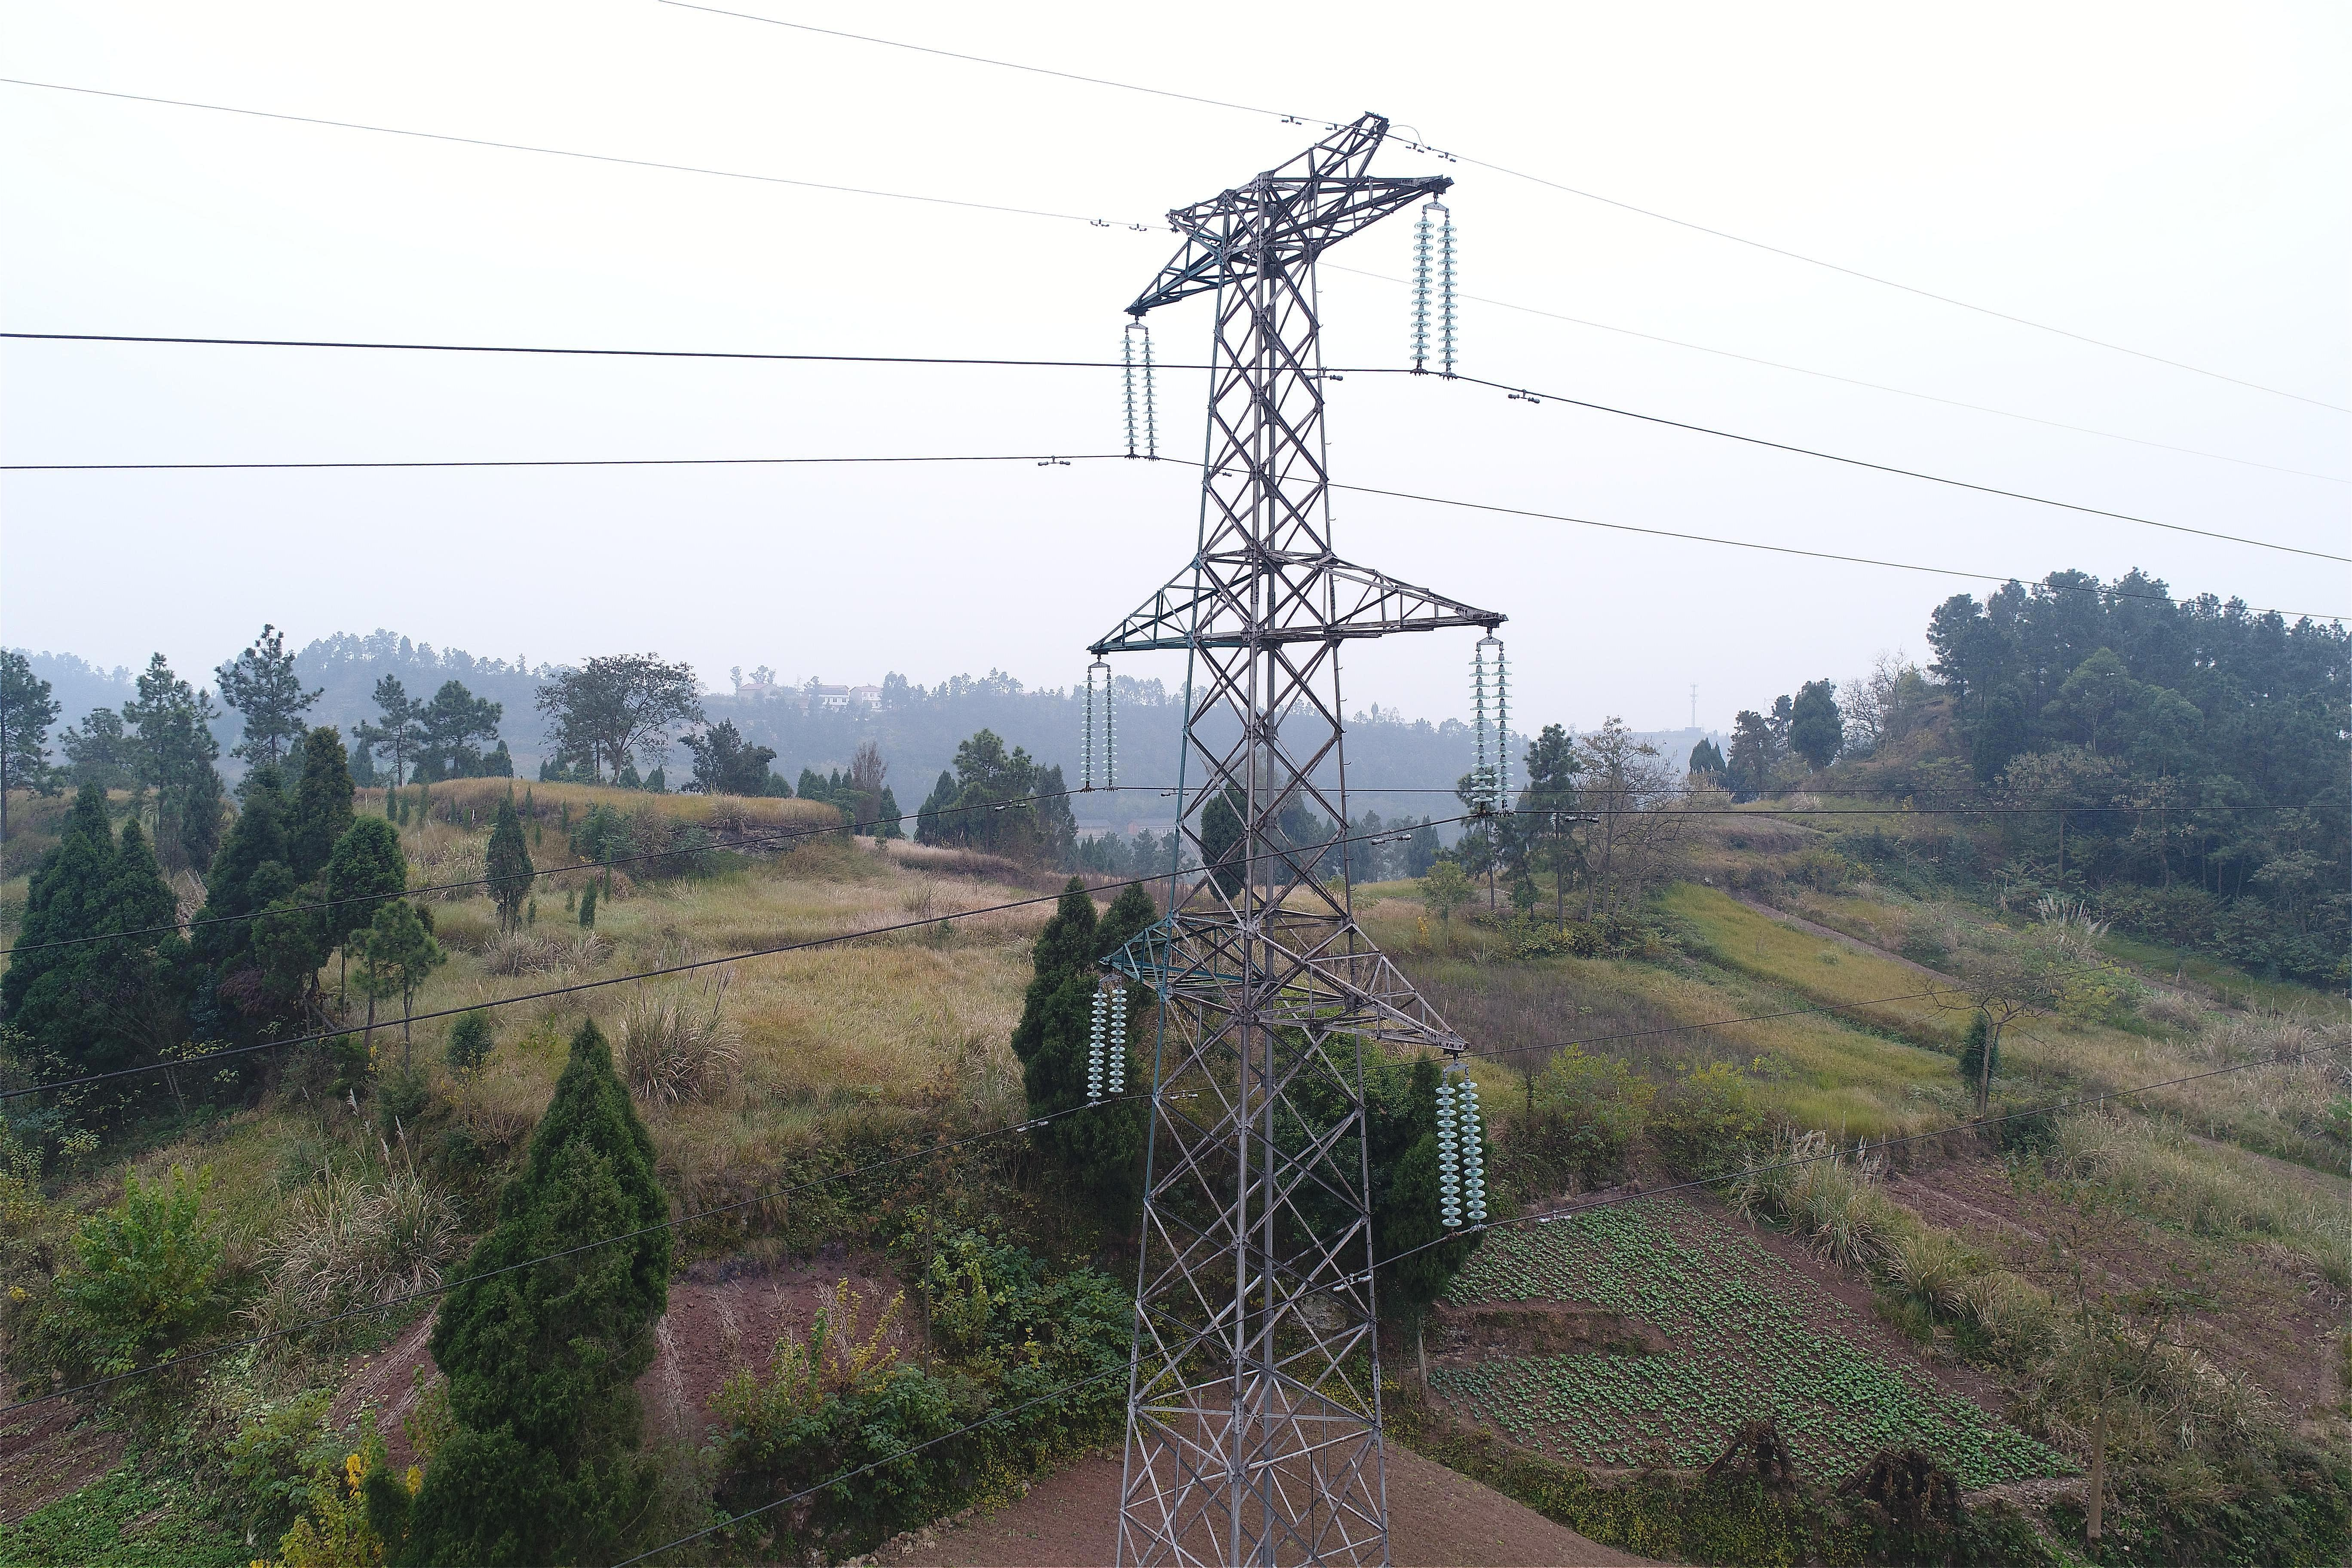insultor3: (1466, 637, 1526, 815), (1409, 206, 1463, 381), (1437, 1083, 1494, 1232), (1081, 985, 1132, 1111), (1118, 324, 1162, 460), (1076, 670, 1120, 798)
